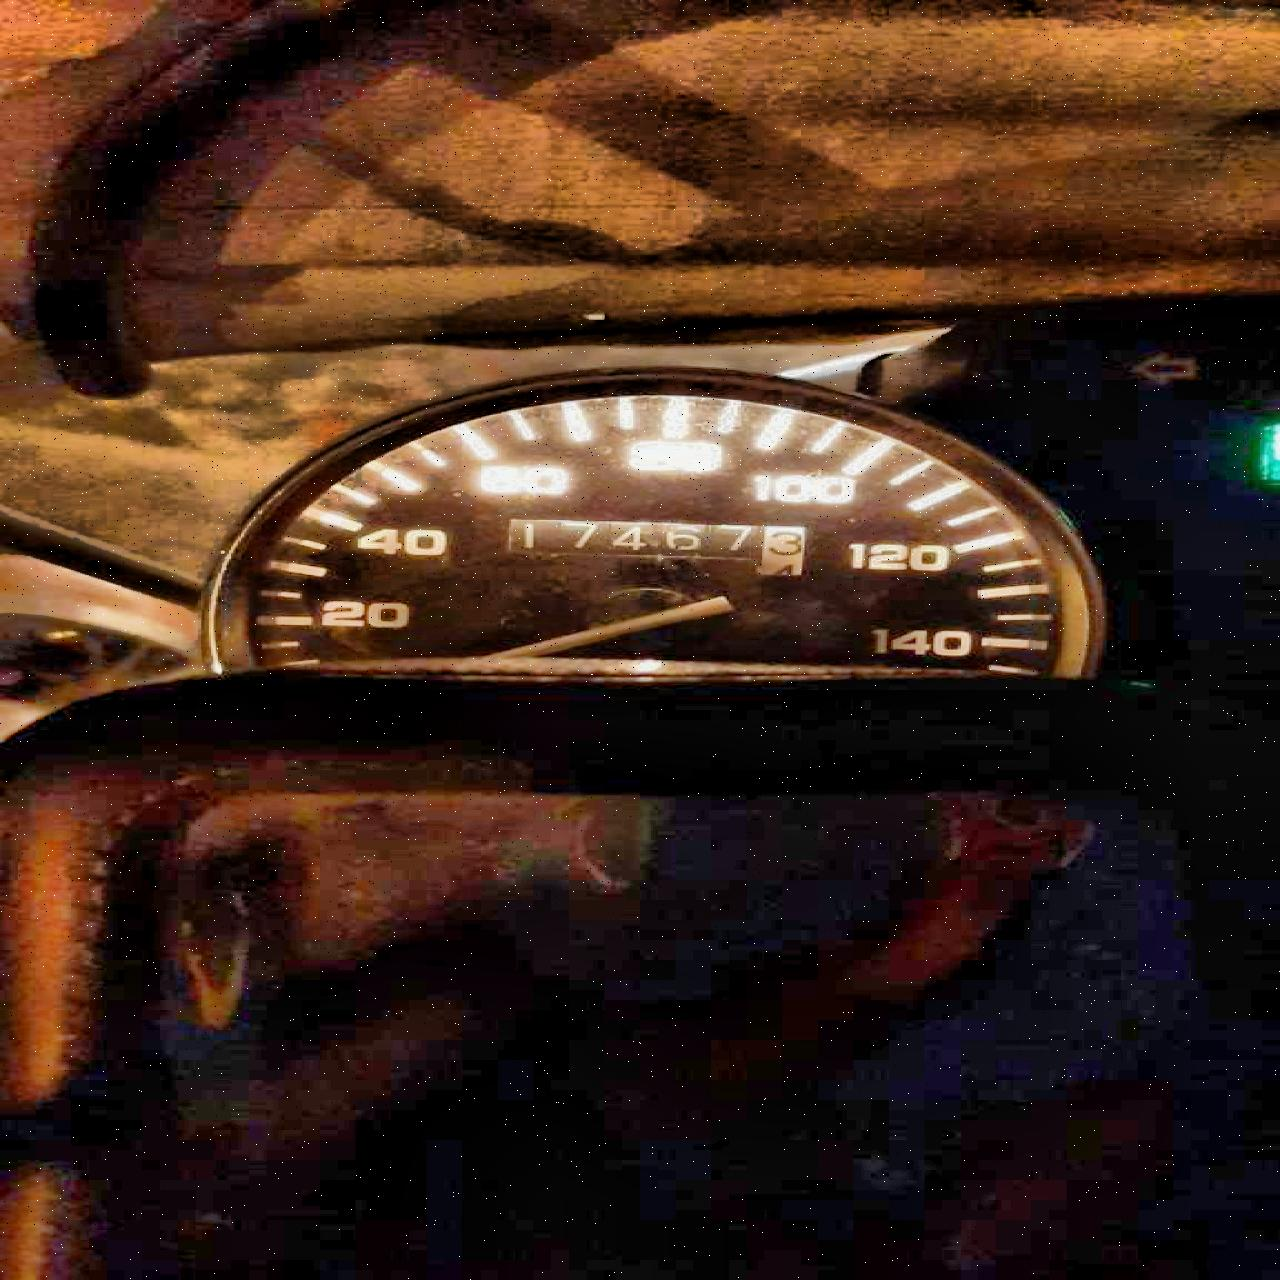1: (513, 519, 538, 549)
3: (764, 527, 804, 558)
4: (610, 524, 649, 551)
6: (660, 523, 702, 553)
7: (556, 518, 600, 550), (714, 518, 754, 552)
odometer: (489, 511, 822, 588)
